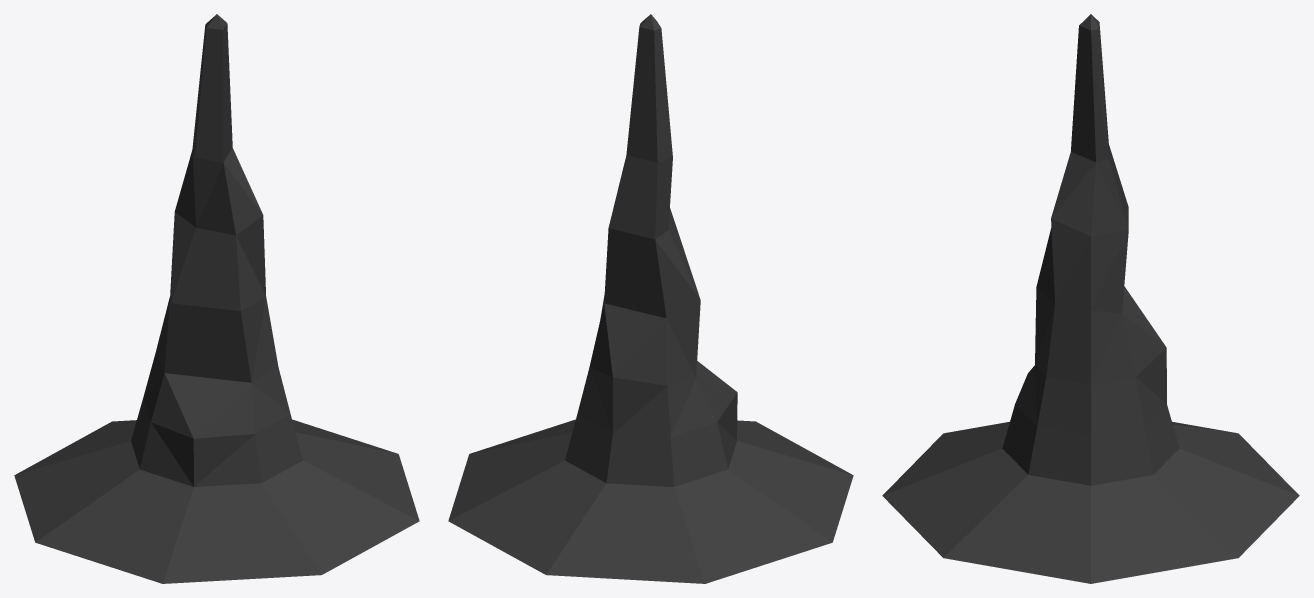
Rendered from Stal_2F.fbx.
The picture shows the model from 3 angles, left to right: view 1: azimuth 30°, elevation 25°; view 2: azimuth 150°, elevation 25°; view 3: azimuth 270°, elevation 25°; orthographic projection.
Visible parts, largest first — view 1: pCone44; view 2: pCone44; view 3: pCone44.
Part boxes in pixels (x1=…): pCone44: x1=14, y1=14, x2=419, y2=583; pCone44: x1=448, y1=14, x2=853, y2=583; pCone44: x1=882, y1=14, x2=1299, y2=583.
Size of the model in its own units: 3.77 by 4.8 by 3.77.
